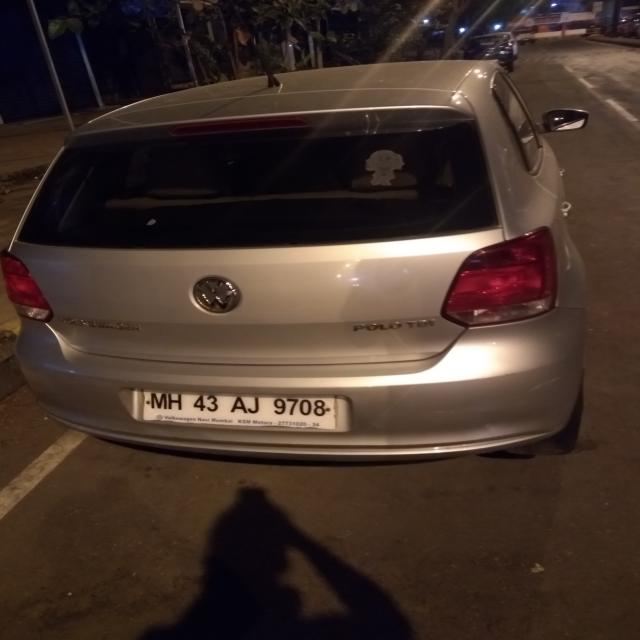Number-Plate: (144, 386, 343, 426)
